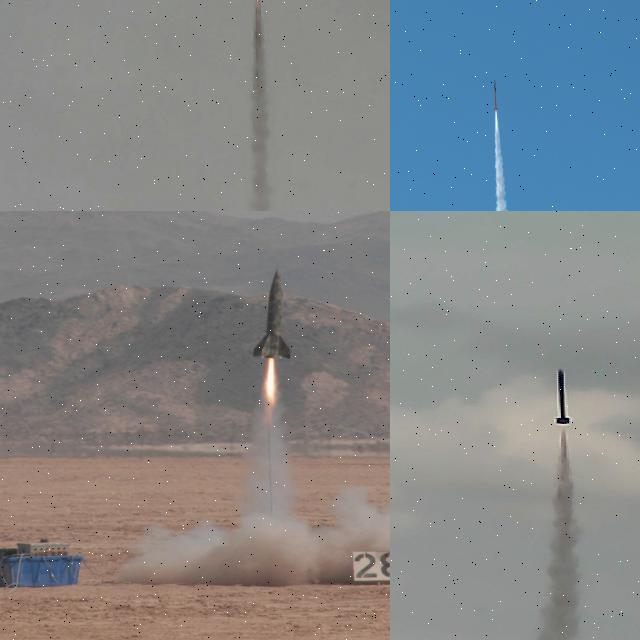Rocket: (252, 268, 292, 361), (554, 368, 571, 424), (493, 79, 498, 111)
